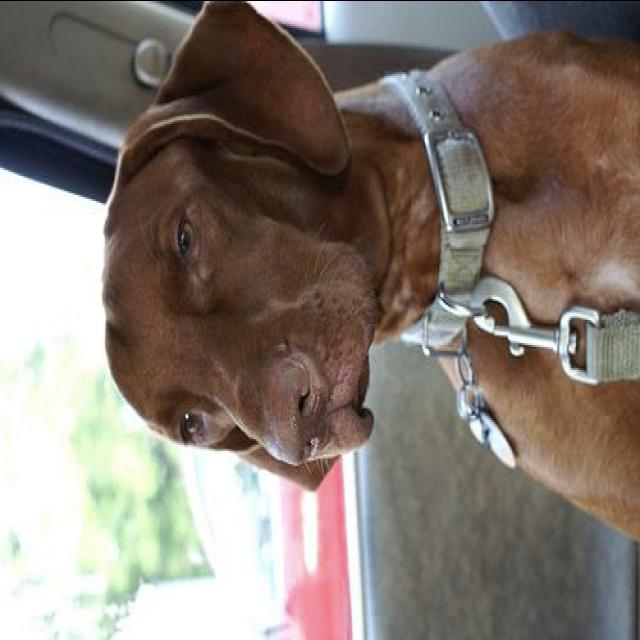vizsla: (95, 0, 638, 548)
